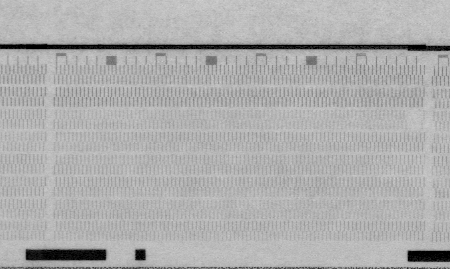Broken hole: (403, 108, 430, 131)
